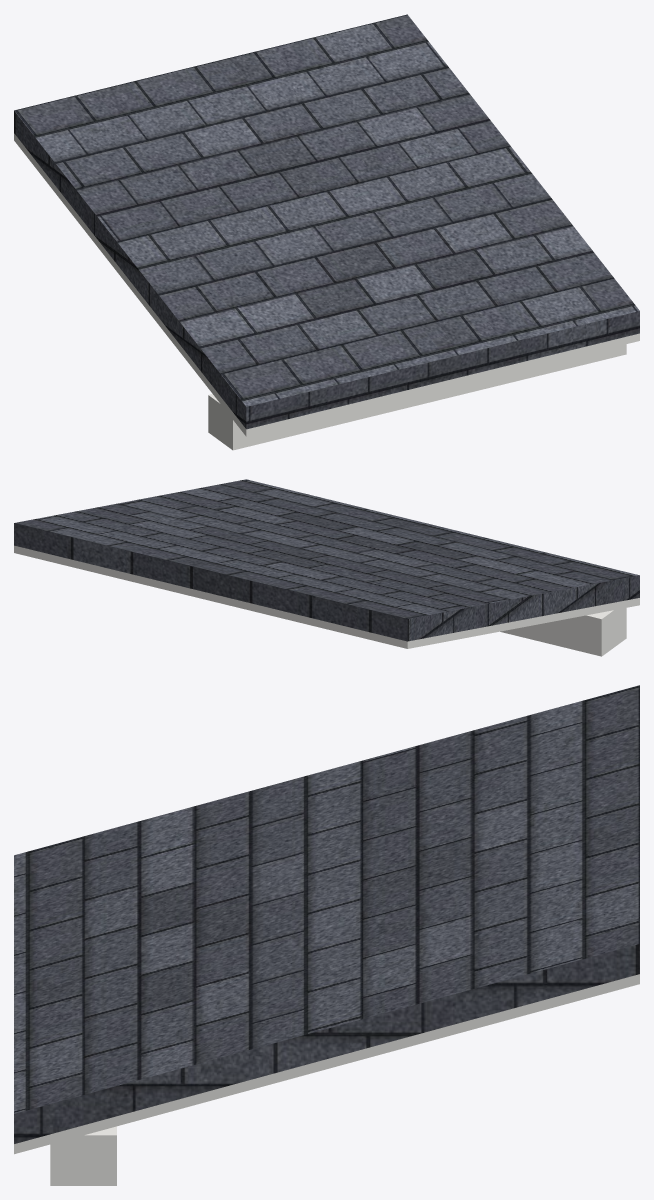
File: porch_roof_end_l.glb
3 renders of one model, top to bottom at view 1: azimuth 30°, elevation 25°; view 2: azimuth 150°, elevation 25°; view 3: azimuth 270°, elevation 25°, orthographic. The views are drawn at different scales.
Parts seen in each view (by area): view 1: porch_roof_end_l_shingles, porch_roof_end_l_trim; view 2: porch_roof_end_l_shingles, porch_roof_end_l_trim; view 3: porch_roof_end_l_shingles, porch_roof_end_l_trim.
Boxes of the visible parts, box(x1,y1,x2,y2) form: porch_roof_end_l_shingles: box(14, 14, 639, 429); porch_roof_end_l_trim: box(14, 133, 639, 450); porch_roof_end_l_shingles: box(14, 479, 639, 641); porch_roof_end_l_trim: box(14, 545, 639, 656); porch_roof_end_l_shingles: box(14, 685, 639, 1143); porch_roof_end_l_trim: box(14, 974, 639, 1185).
Size of the model in its own units: 2.2 by 0.96 by 2.25.
2 materials, 1 textured.
